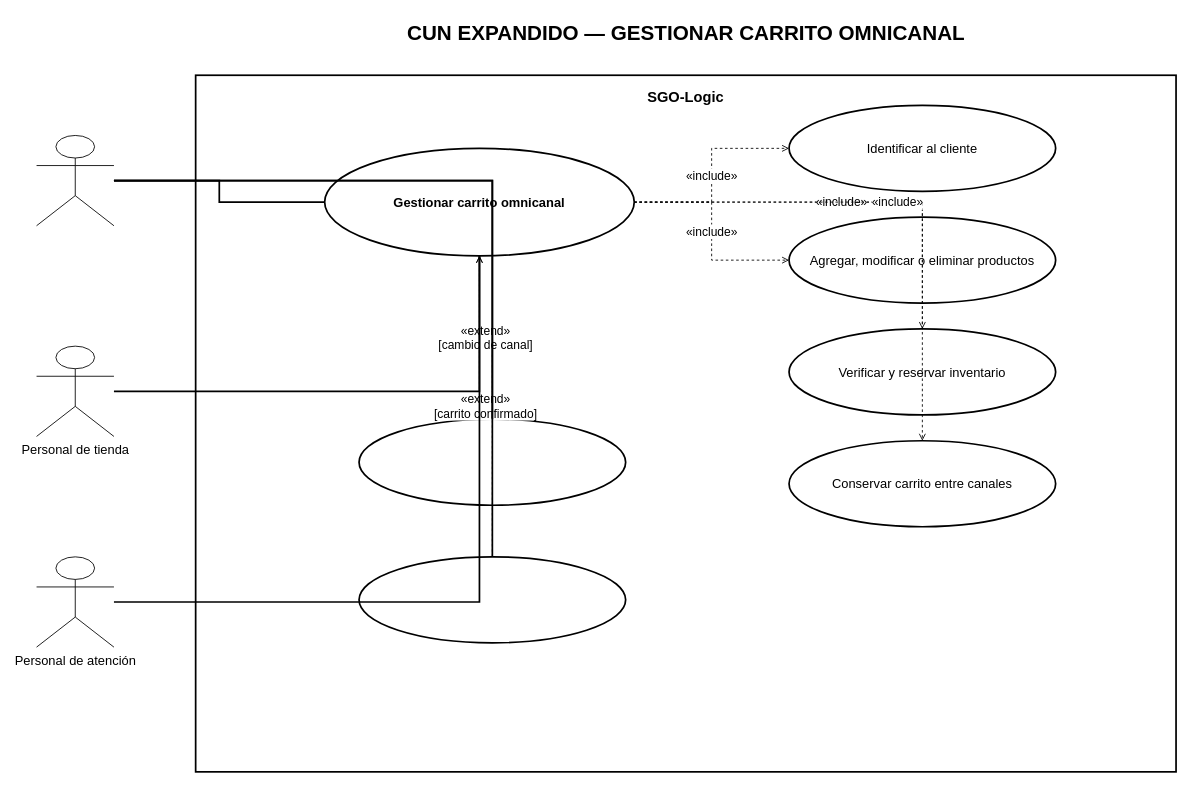
This 1192x787 diagram has some shape labels left out. Each missing label, with the centre of its shape:
"Cliente" goes at pixel 75 180.
"Procesar pago" goes at pixel 492 599.
"Recuperar carrito en otro canal" goes at pixel 492 462.
